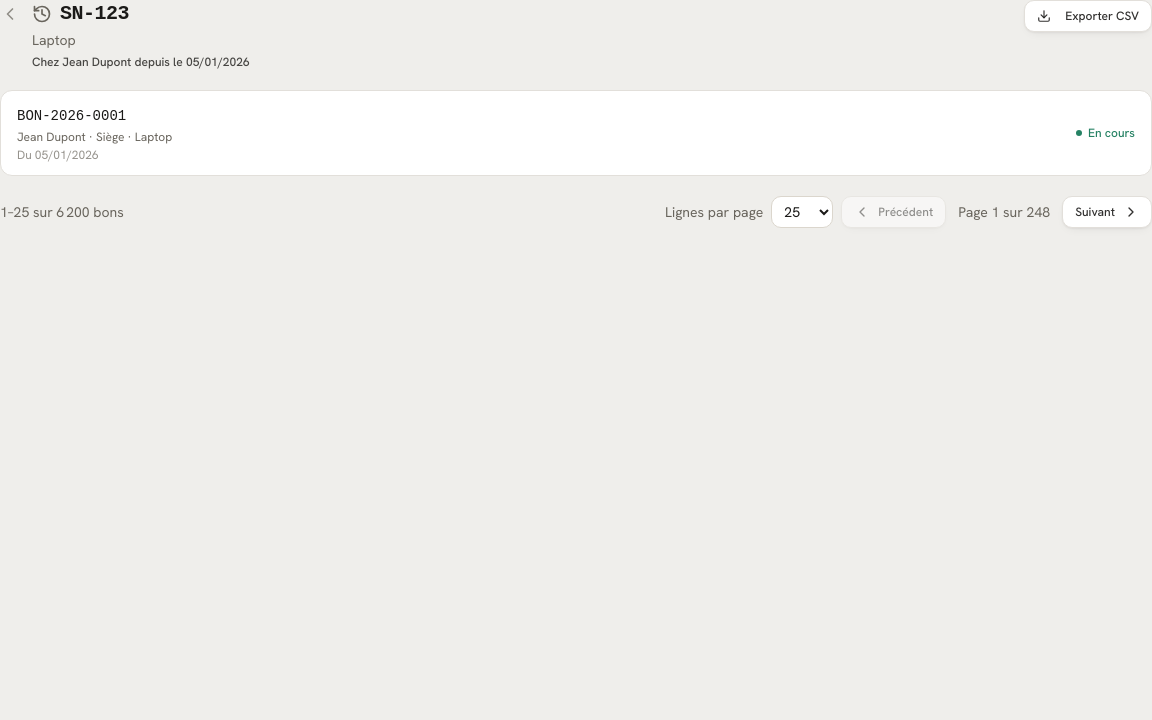
Test: MaterielHistoryPage › export : annonce le nombre de bons, le numéro et le plafond du serveur avant de télécharger
Click the button "Exporter CSV" at (1088, 16), box [1024,0,1151,32]
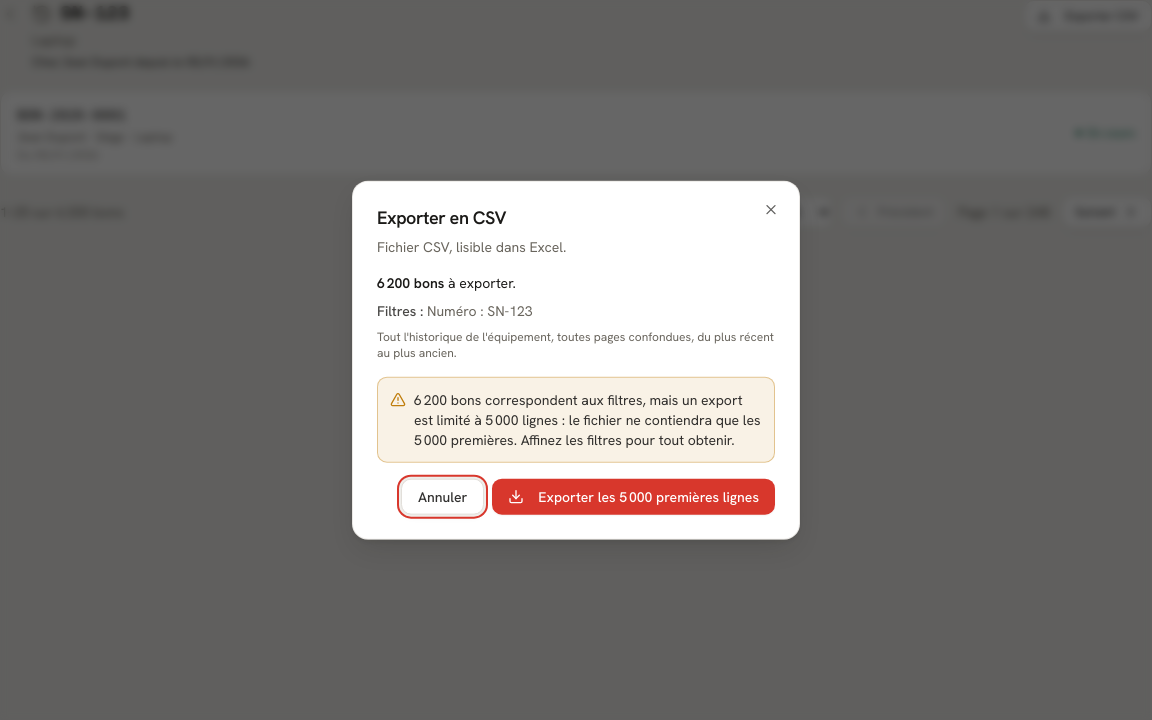
Expected: the dialog shows "6 200 bons à exporter.", [352,181,800,539]
Expected: the dialog shows "limité à 5 000 lignes", [414,390,761,448]
Click the button "Exporter les 5 000 premières lignes" at (634, 496), box [492,478,775,514]
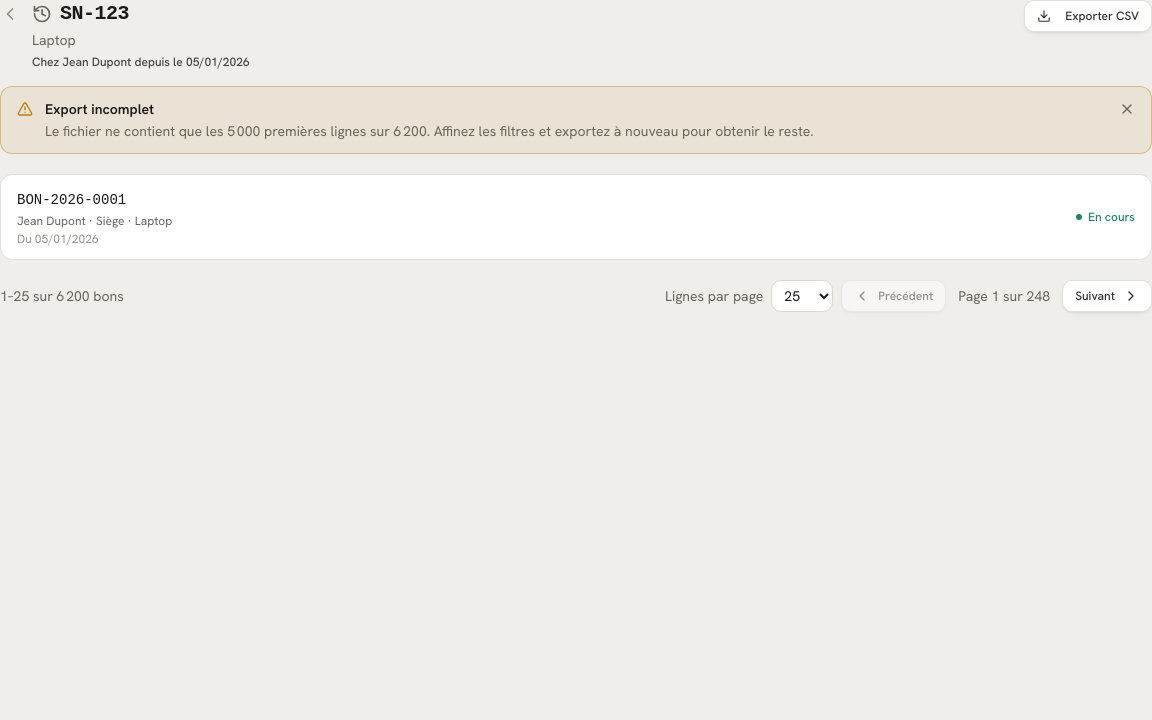
Expected: the text "ne contient que les 5 000 premières lignes sur 6 200" is shown, [45,122,814,140]
